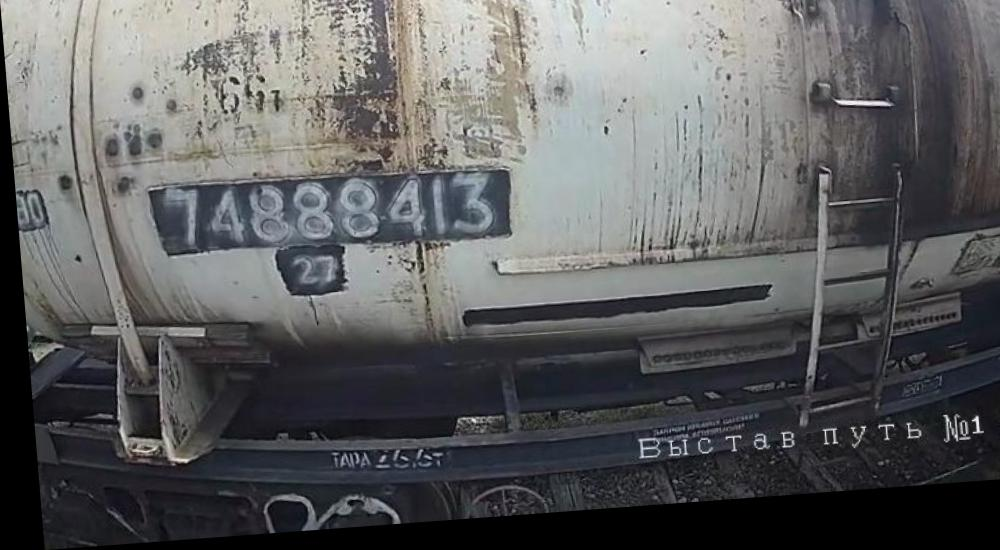Wagon-number: (156, 166, 496, 259)
